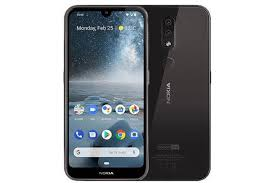nokia: (62, 2, 150, 182), (146, 2, 213, 183)
